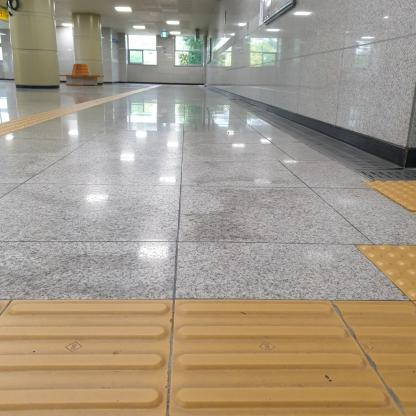go: (168, 297, 407, 416), (0, 299, 175, 416)
stop: (355, 244, 415, 301)
